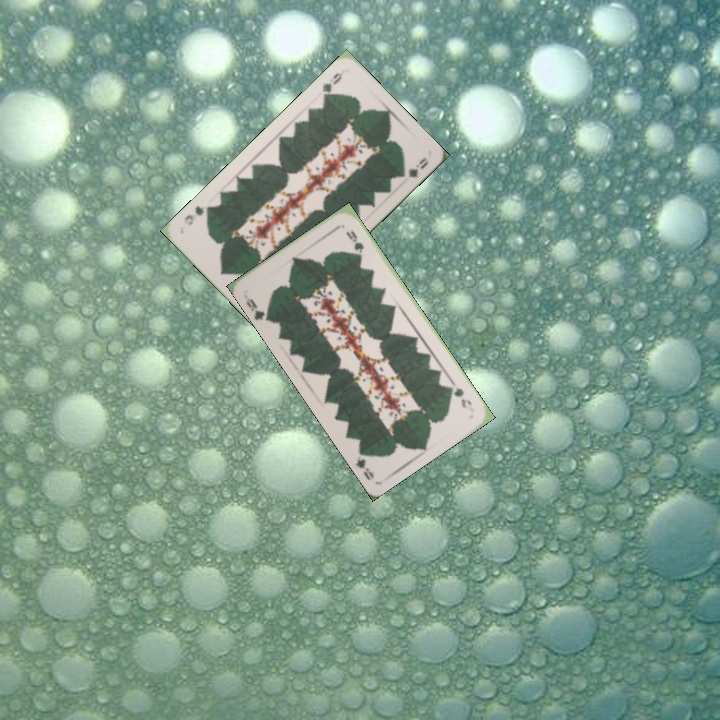G9: (240, 291, 272, 324), (445, 378, 474, 411), (318, 69, 345, 102)
